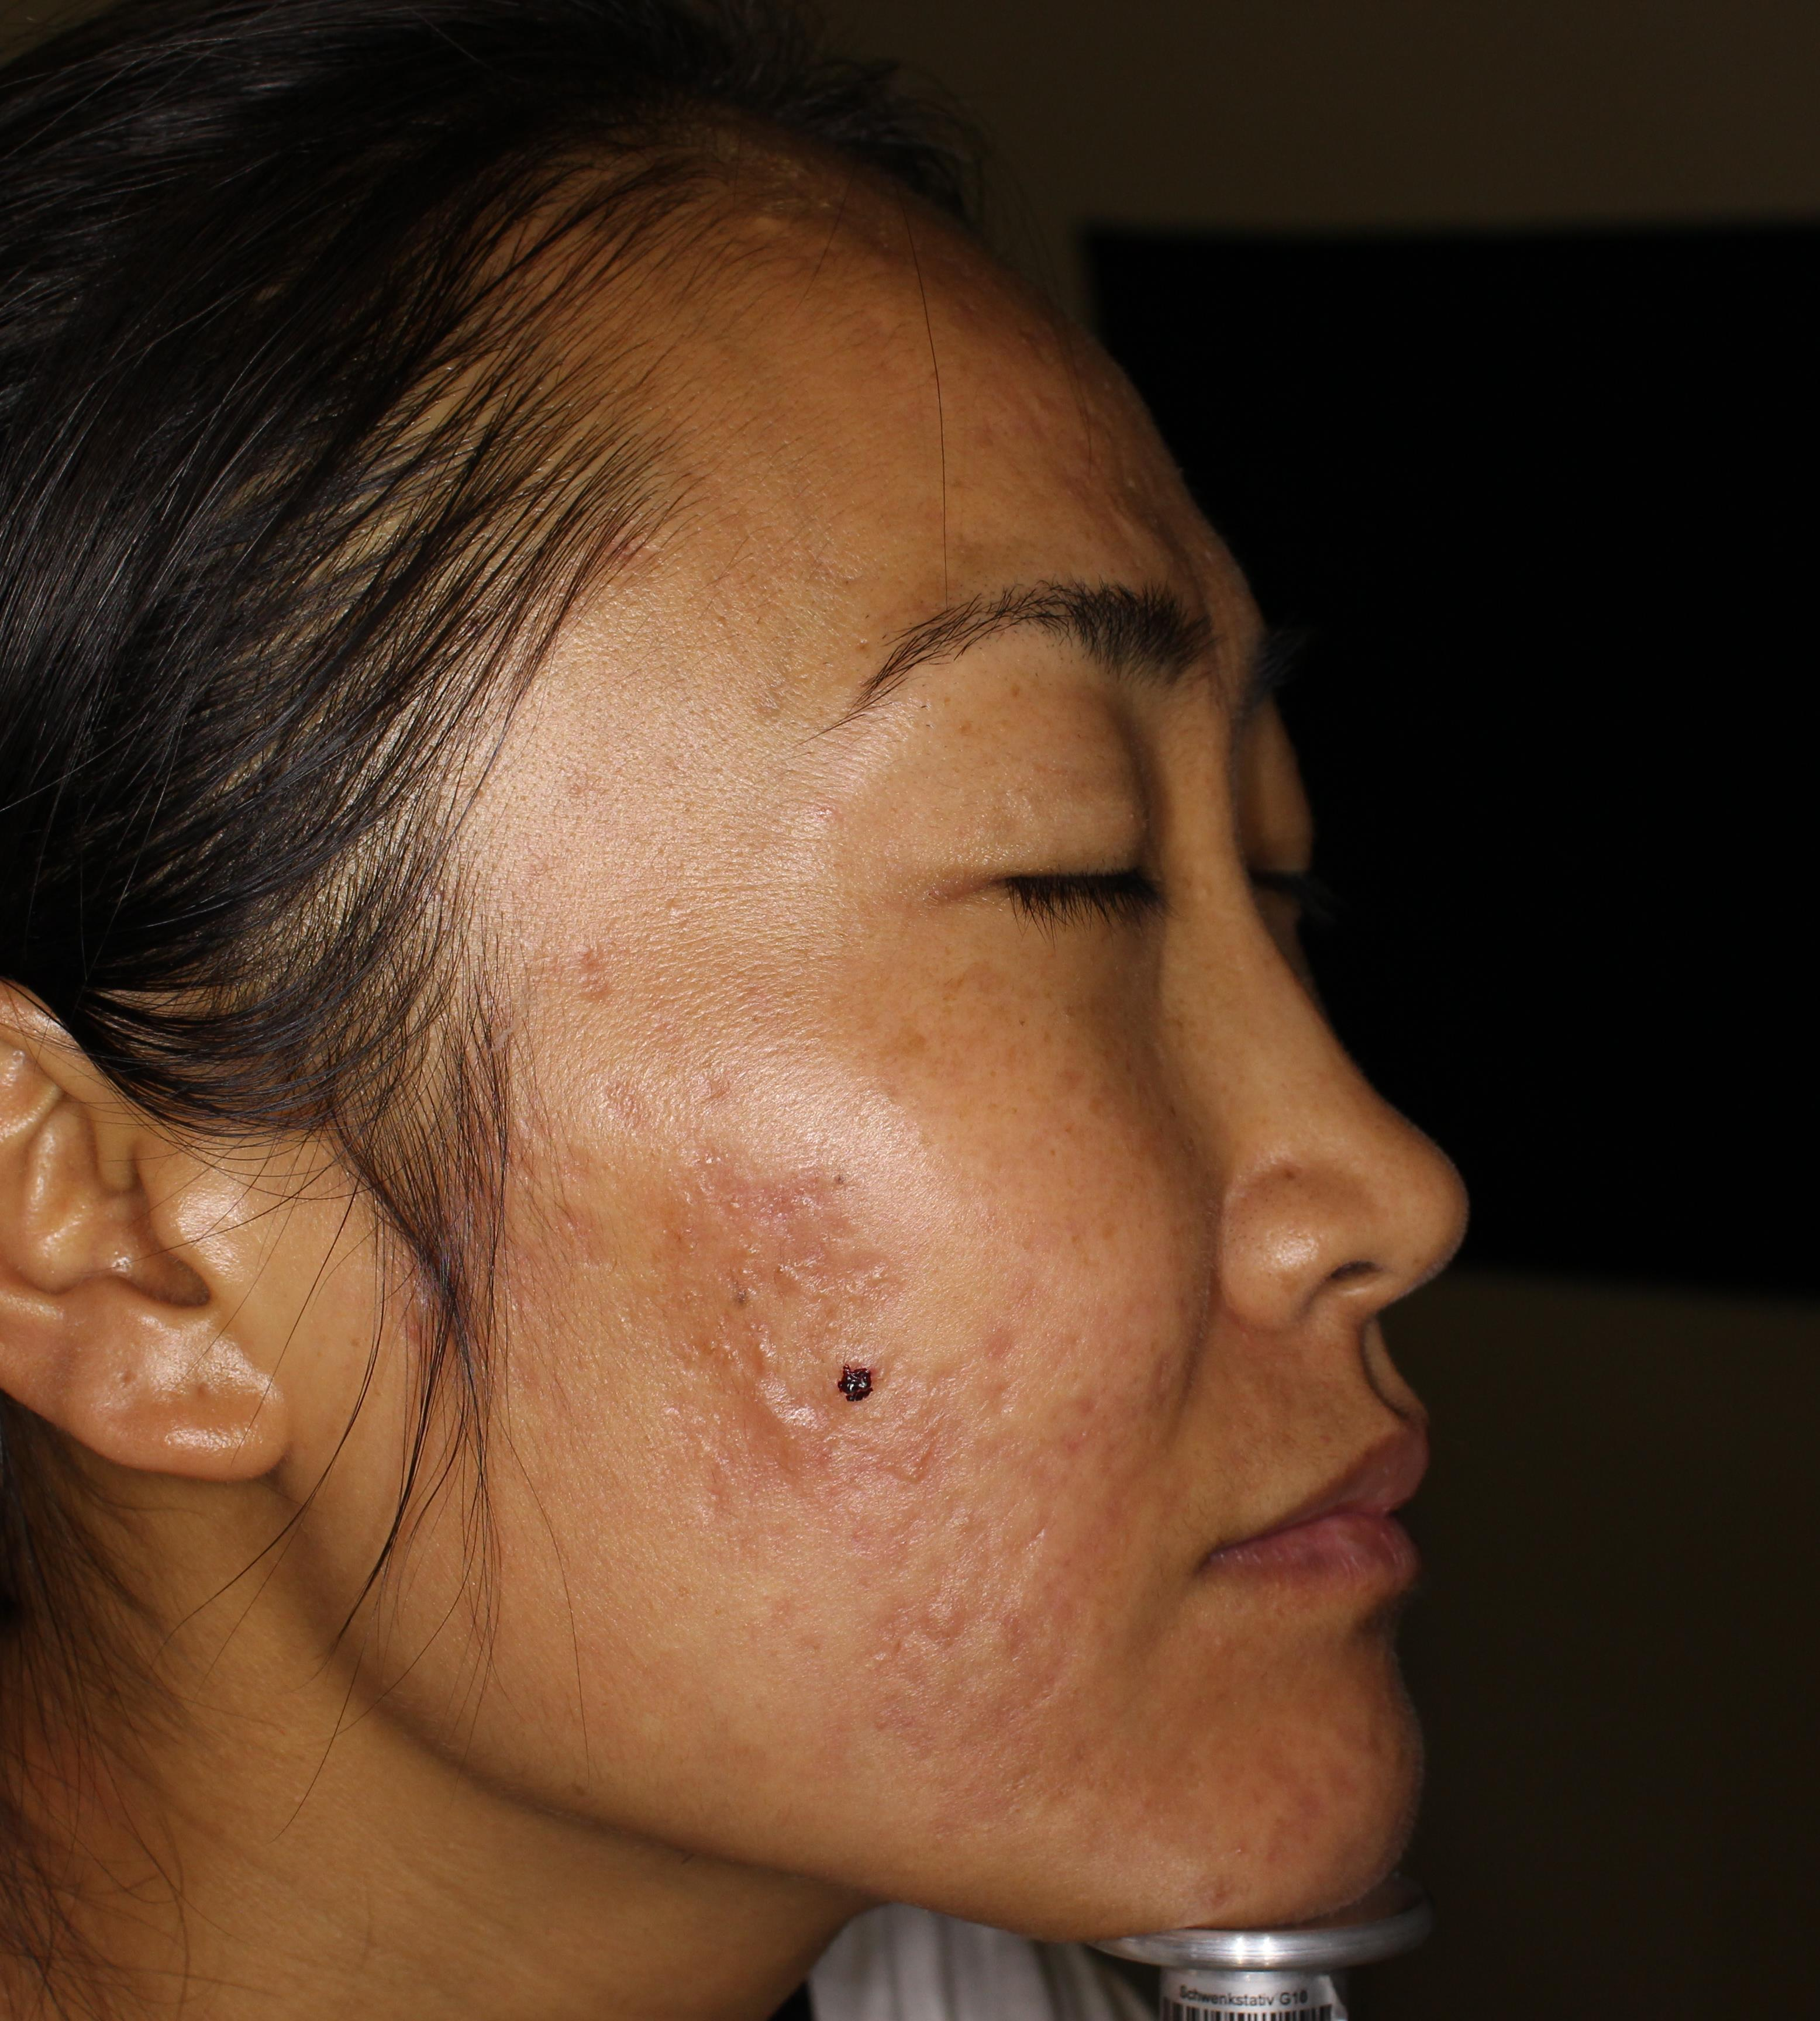fore: (727, 1366, 834, 1468), (785, 1240, 898, 1334), (699, 197, 817, 272), (880, 1410, 970, 1508), (704, 1164, 799, 1240), (889, 1571, 956, 1661), (710, 1306, 780, 1370)
